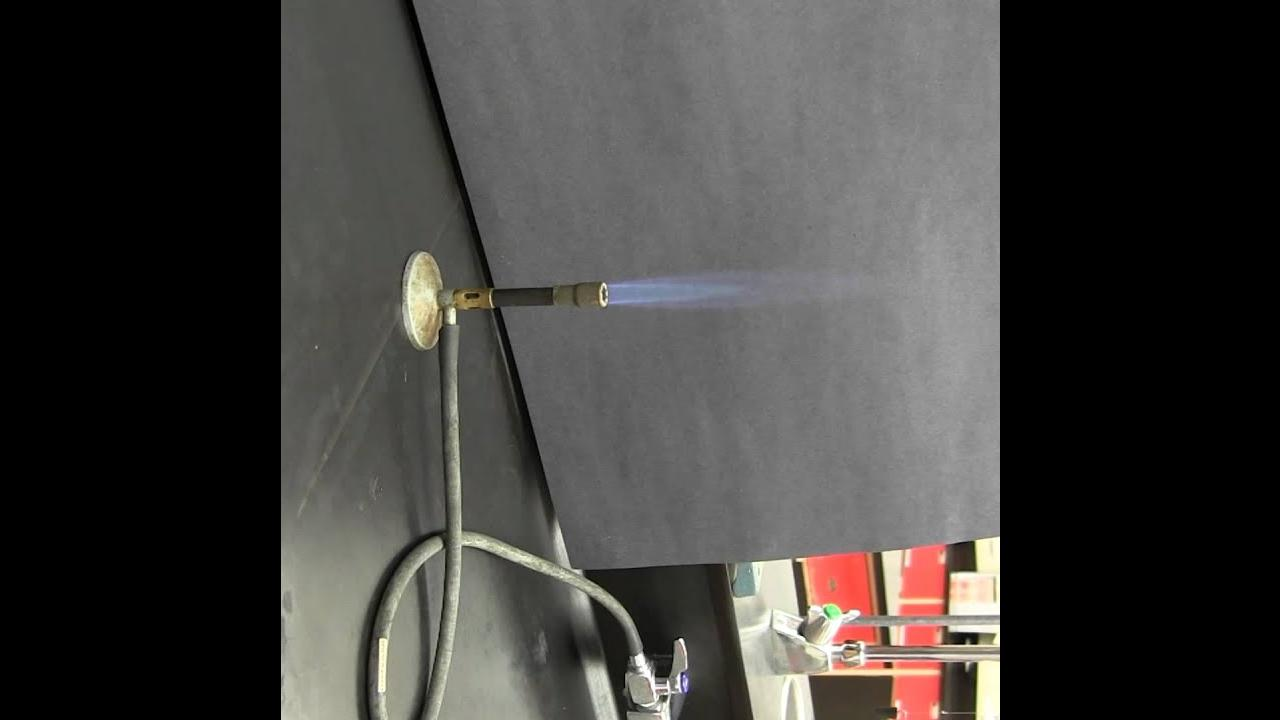controlled_fire: (471, 232, 846, 354)
